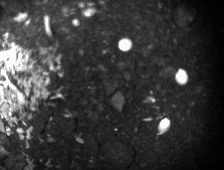corn: (116, 36, 135, 53), (174, 66, 190, 86), (156, 117, 173, 135)
